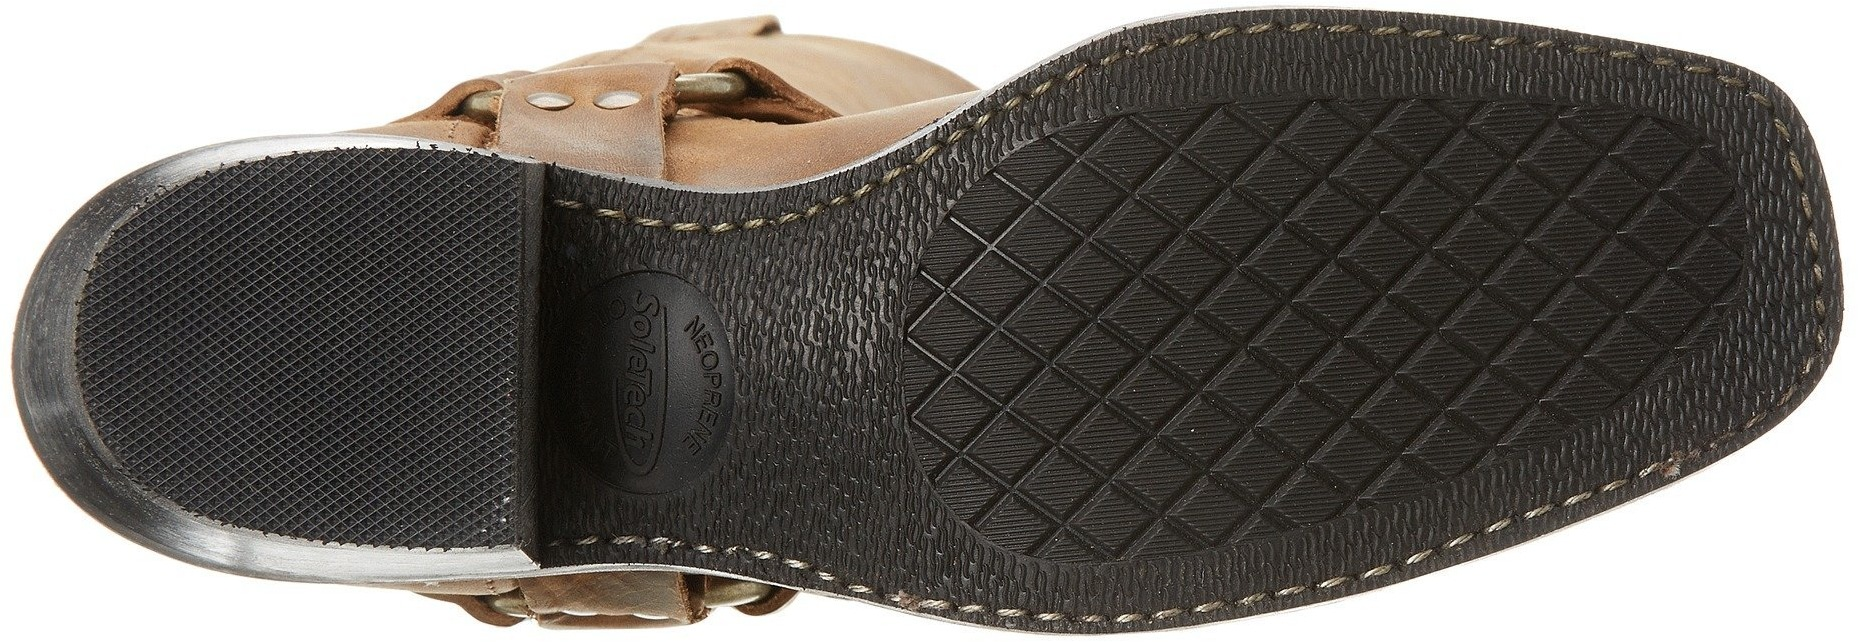other: (254, 163, 504, 377), (321, 375, 510, 547), (87, 267, 251, 425)
quad: (1184, 110, 1443, 365), (944, 222, 1175, 468), (1449, 117, 1630, 315), (1181, 372, 1338, 521), (1453, 321, 1591, 447)
